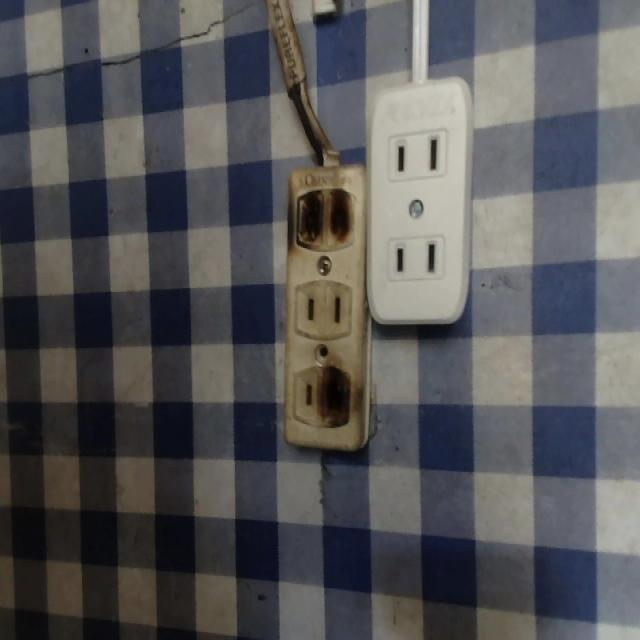-: (293, 184, 358, 251), (317, 364, 354, 433)
